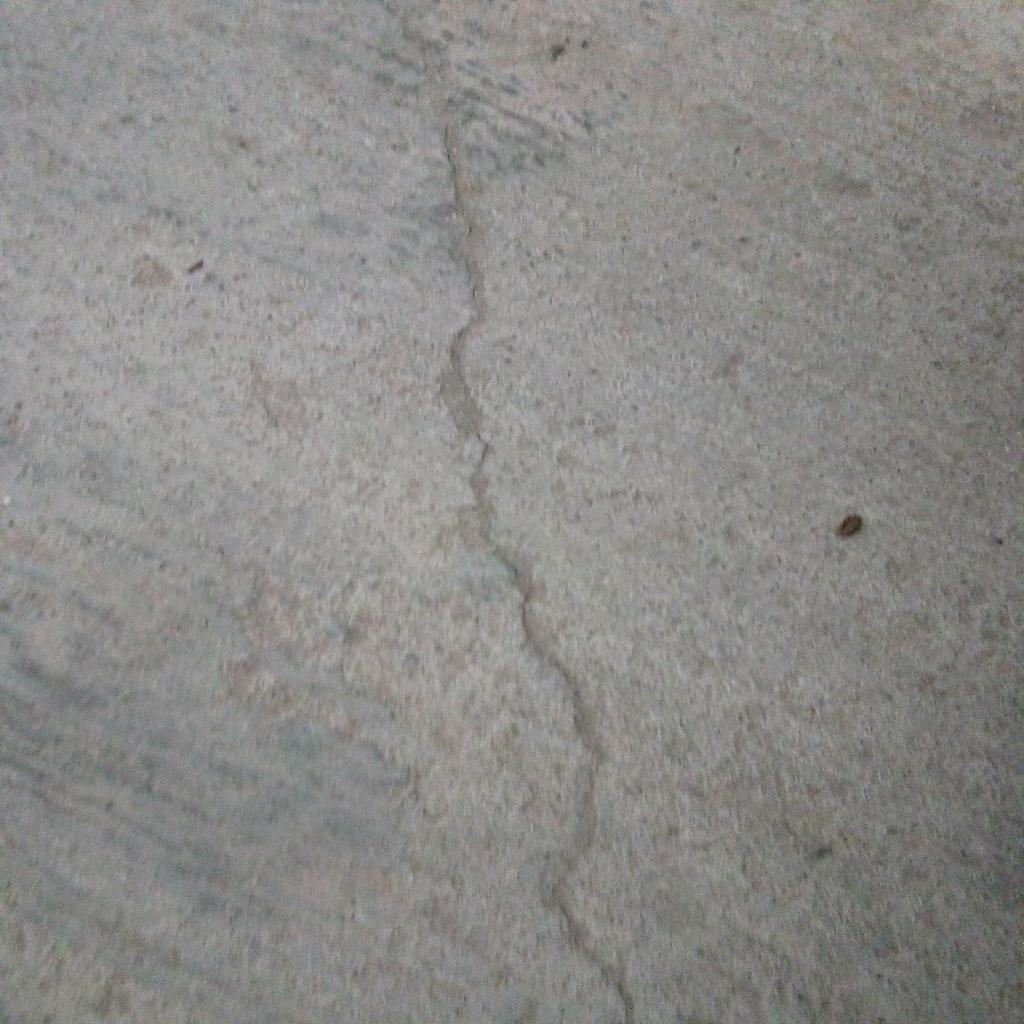Crack: (391, 1, 637, 1024)
